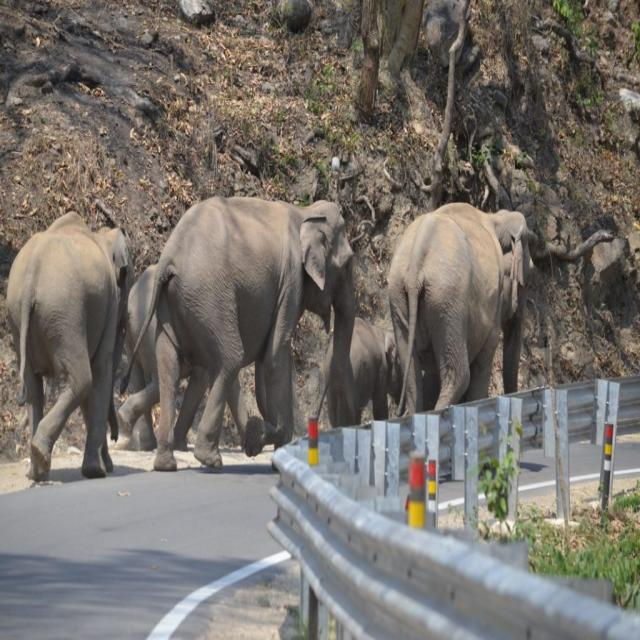Elephant: (149, 184, 359, 479), (5, 208, 131, 489), (383, 199, 536, 425)
